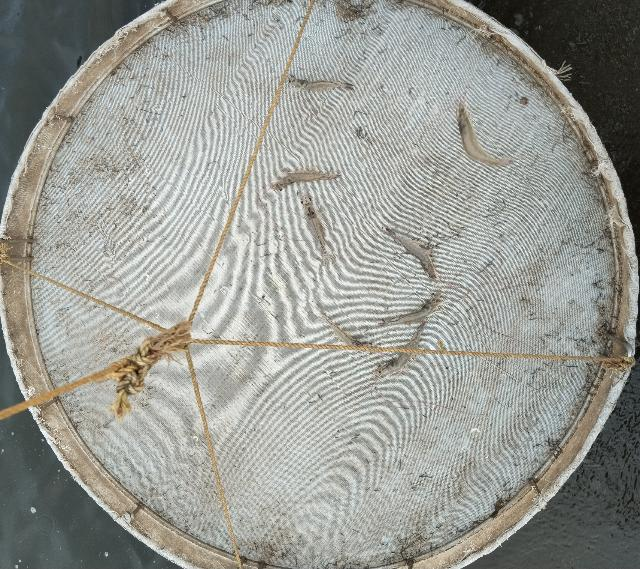shrimp: (455, 100, 513, 166), (386, 229, 440, 283), (373, 322, 425, 375), (313, 310, 374, 354), (301, 194, 337, 268), (378, 292, 443, 327), (272, 171, 342, 192), (287, 75, 355, 91)
